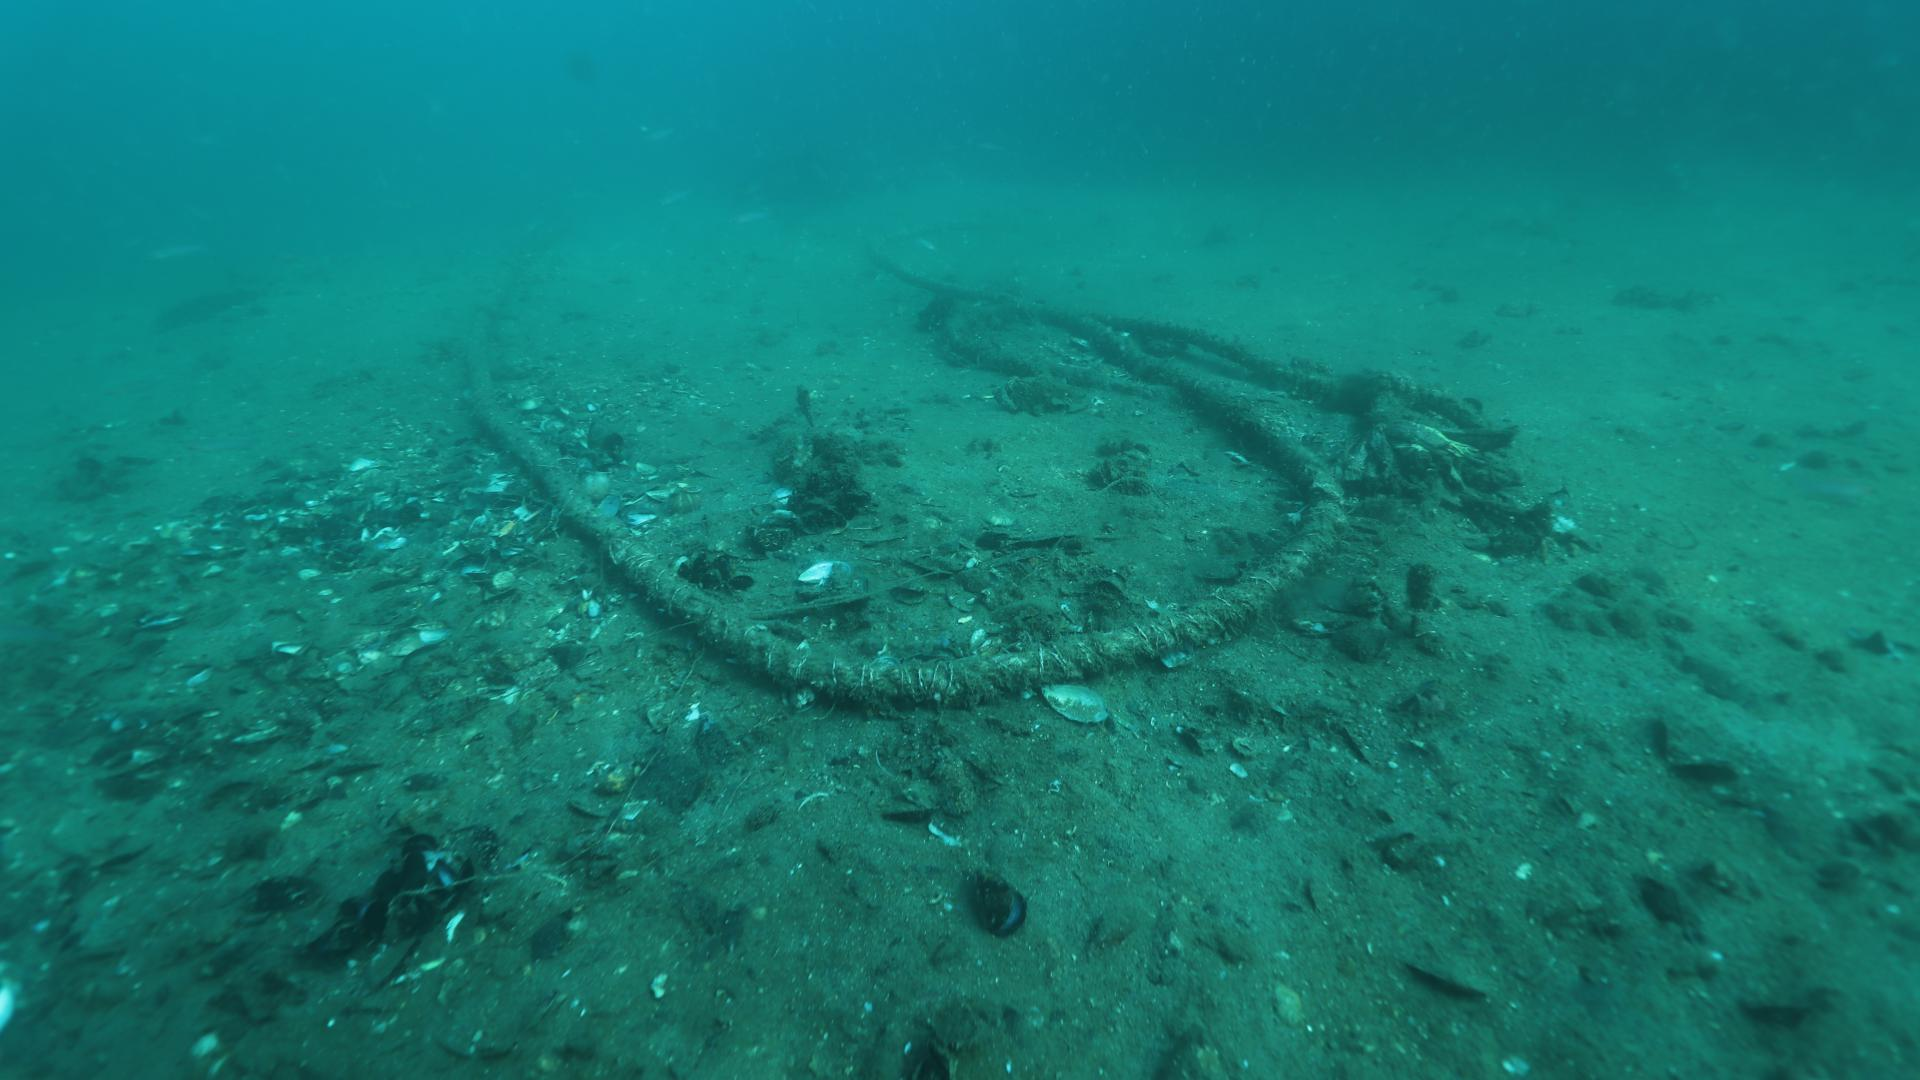bundle of ropes: (465, 287, 1495, 713)
